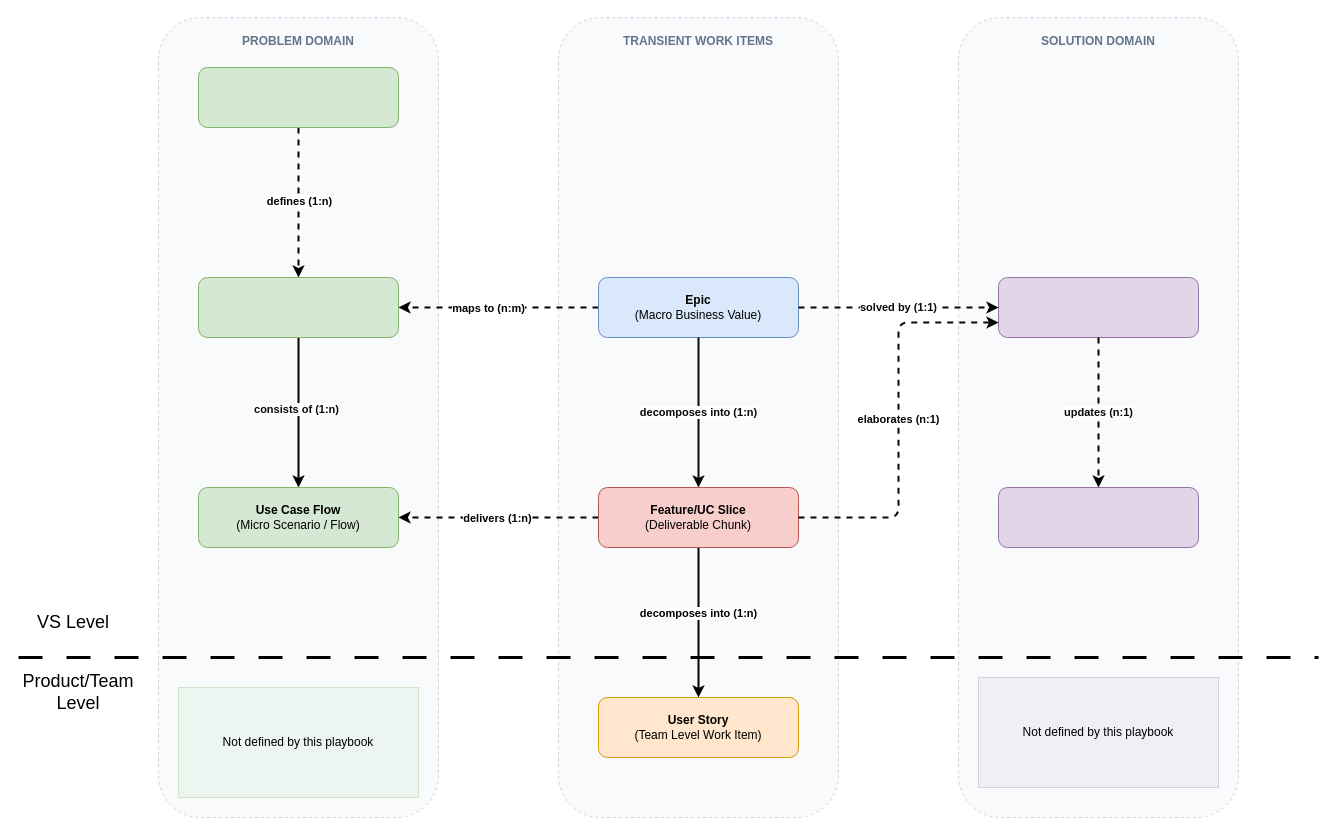
This 1338x835 diagram has some shape labels left out. Here are the shapes that lost their labels. From the top down, the centre of each, then its label:
the point at 298,97: Service Blueprint
the point at 298,307: Use Case (Macro System Behavior)
the point at 1098,307: Solution Design (The Delta / Transition State)
the point at 1098,517: System Design (As-Is System Blueprint)
